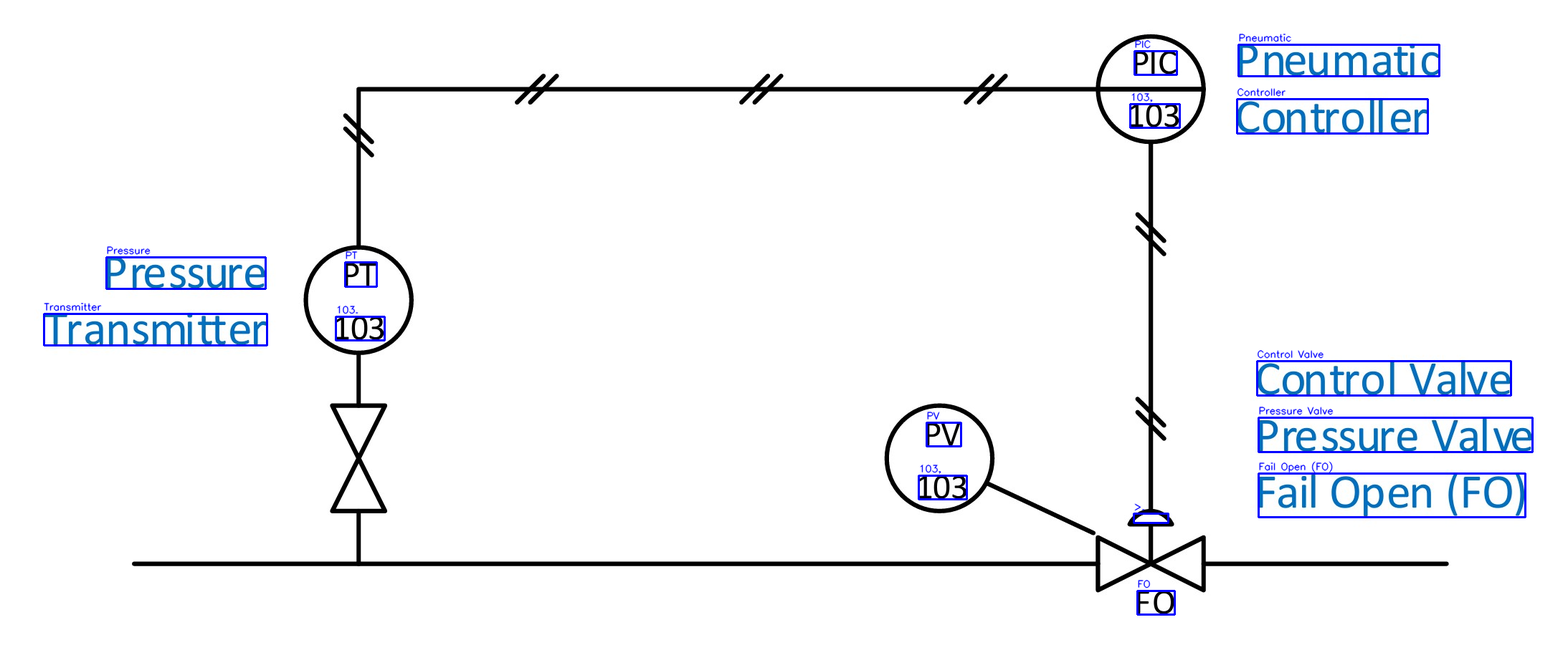Instrumento: (298, 238, 419, 356), (880, 402, 998, 515), (1092, 33, 1207, 147)
Válvula: (1084, 502, 1217, 599), (320, 397, 394, 520)
